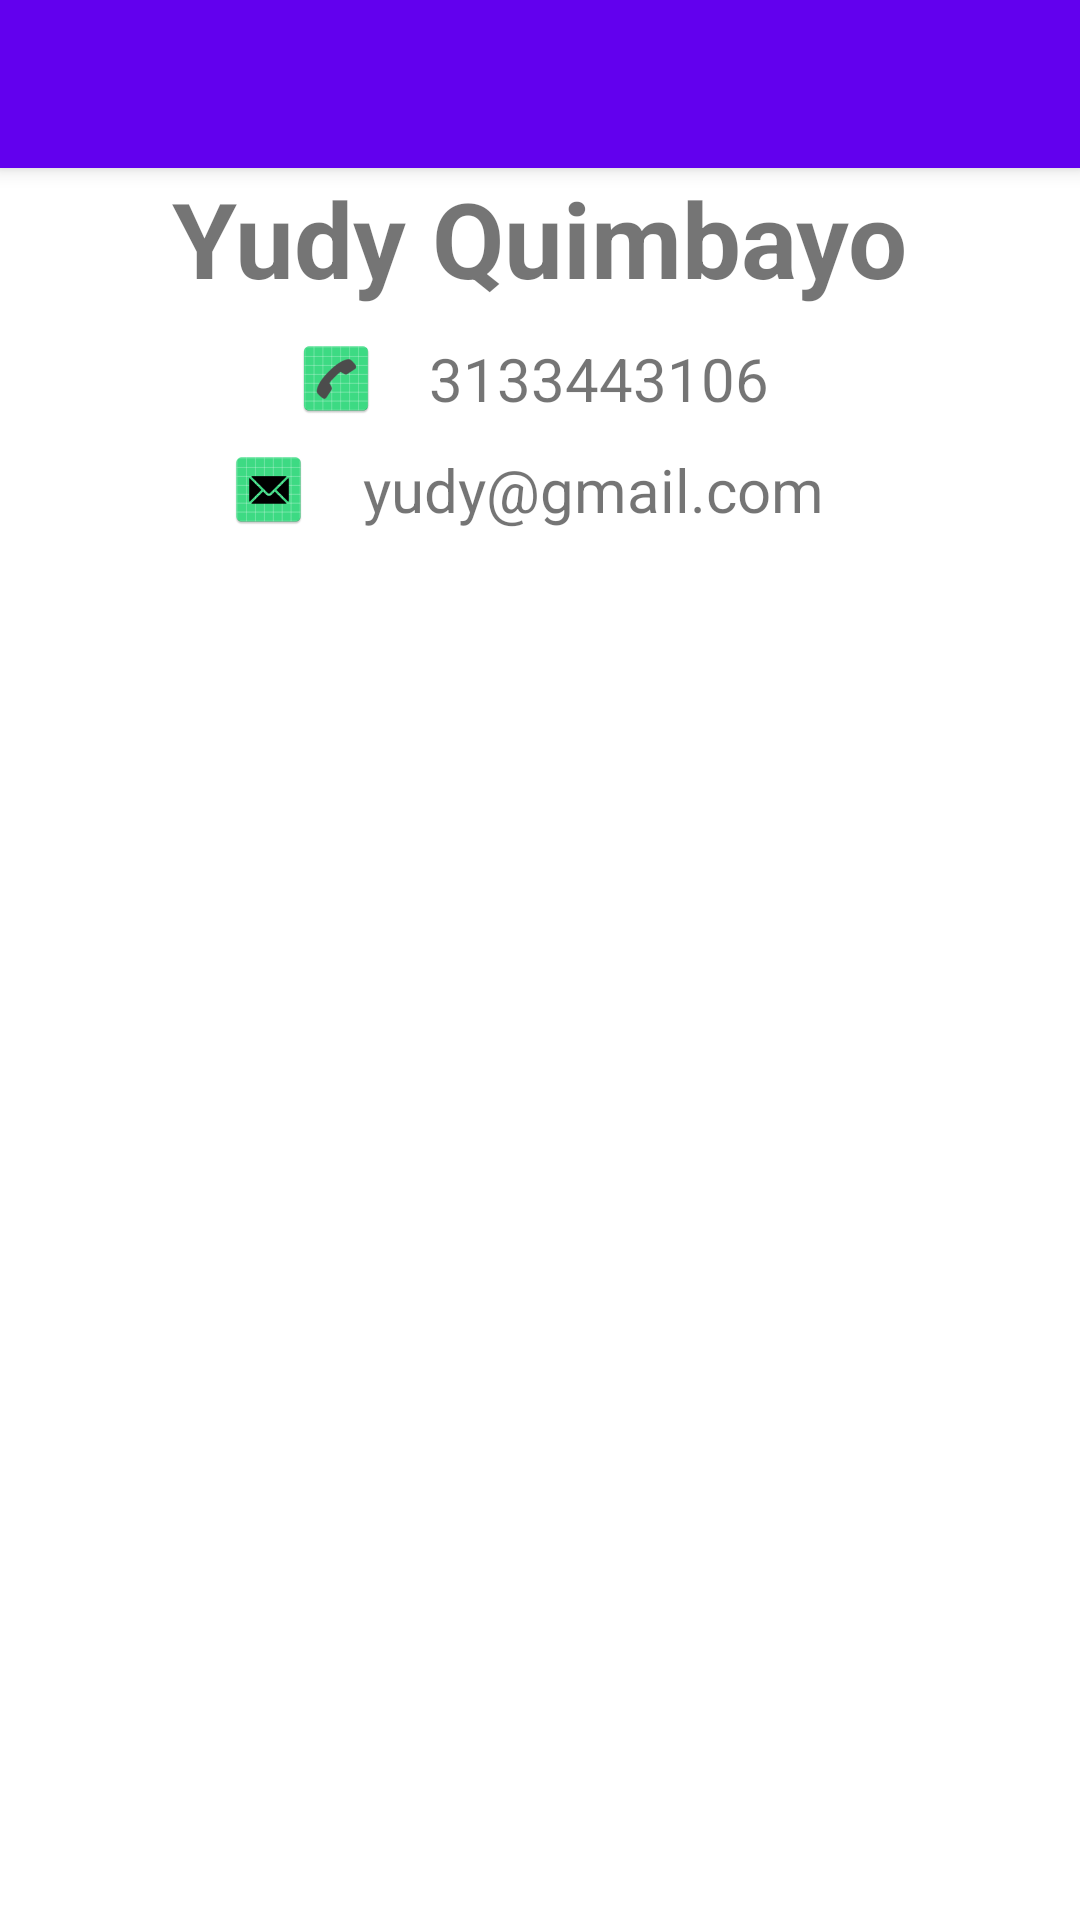

Screen size 1080 x 1920. Icon name, then its center in pixels as [x,y]:
email: [268,490]
llamada: [336,379]
